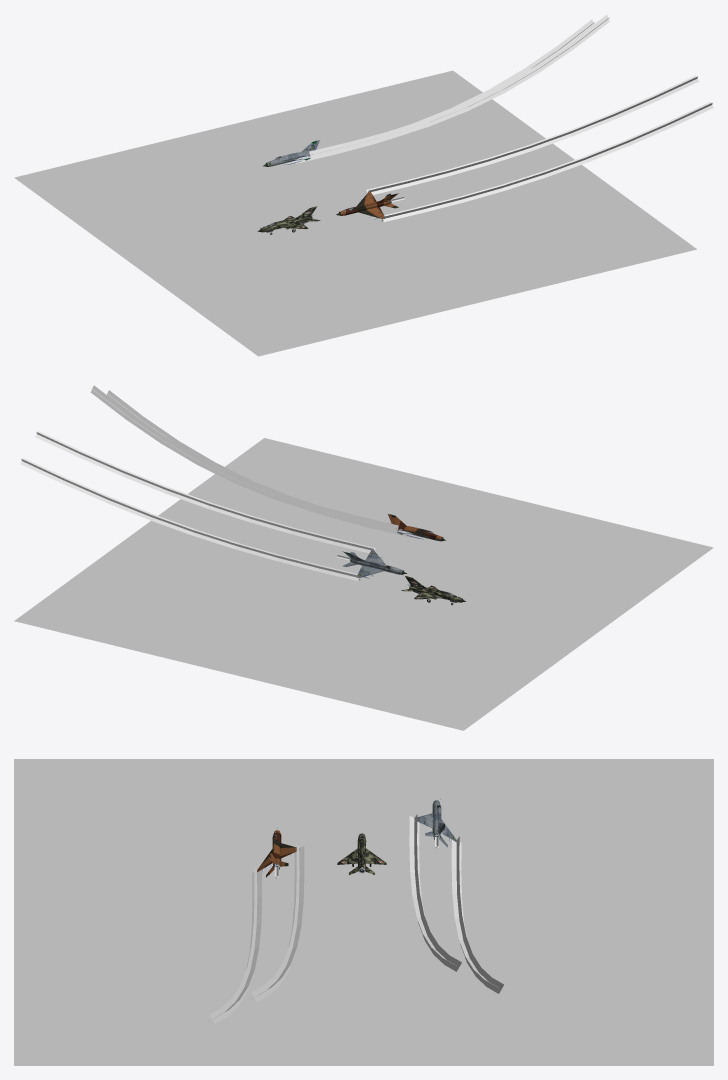
File: uploads_files_3684830_fishbed.fbx
The picture shows the model from 3 angles, top to bottom: view 1: azimuth 30°, elevation 25°; view 2: azimuth 150°, elevation 25°; view 3: azimuth 270°, elevation 25°; orthographic projection. The views are drawn at different scales.
Parts seen in each view (by area): view 1: Plane, trails.002, trails.003, MIG-21.001, MIG-21; view 2: Plane, trails.003, trails.002, MIG-21.002, MIG-21; view 3: Plane, trails.003, trails.002, MIG-21, MIG-21.001, MIG-21.002.
Boxes of the visible parts, bbox=[...] form: Plane: bbox=[14, 70, 696, 356]; trails.002: bbox=[366, 75, 713, 221]; trails.003: bbox=[296, 14, 609, 163]; MIG-21.001: bbox=[336, 192, 399, 219]; MIG-21: bbox=[257, 206, 320, 232]; Plane: bbox=[14, 438, 713, 730]; trails.003: bbox=[20, 431, 376, 580]; trails.002: bbox=[90, 385, 412, 537]; MIG-21.002: bbox=[342, 550, 406, 577]; MIG-21: bbox=[401, 576, 465, 602]; Plane: bbox=[14, 759, 713, 1065]; trails.003: bbox=[409, 814, 503, 993]; trails.002: bbox=[208, 844, 304, 1023]; MIG-21: bbox=[337, 833, 386, 874]; MIG-21.001: bbox=[257, 830, 299, 877]; MIG-21.002: bbox=[414, 800, 456, 847].
Size of the model in its own units: 12487 by 2380 by 10095.
